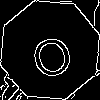O: (25, 25, 76, 81)
